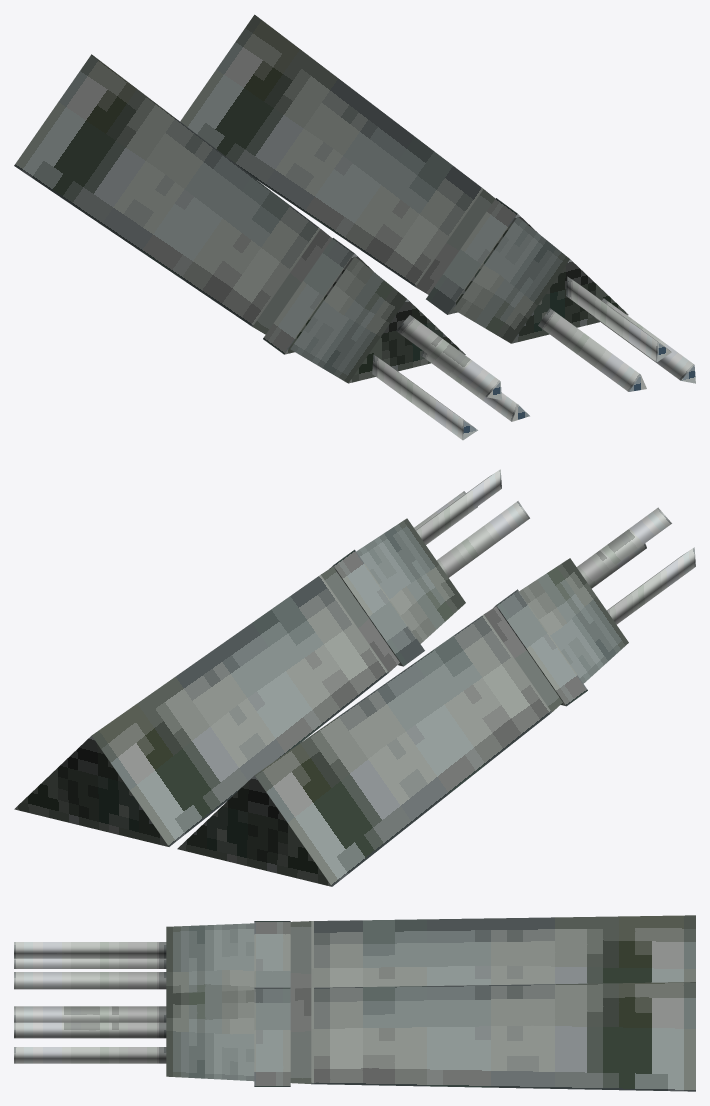
File: bwing_weapon3_s04_l2.fbx
The picture shows the model from 3 angles, top to bottom: view 1: azimuth 30°, elevation 25°; view 2: azimuth 150°, elevation 25°; view 3: azimuth 270°, elevation 25°; orthographic projection. The views are drawn at different scales.
Parts seen in each view (by area): view 1: mesh_node; view 2: mesh_node; view 3: mesh_node.
Boxes of the visible parts, x1,y1,x2,y2 form: mesh_node: [14, 14, 695, 440]; mesh_node: [14, 469, 695, 886]; mesh_node: [14, 915, 695, 1091].
Size of the model in its own units: 1.2 by 0.3328 by 2.64.
Materials: 1 (1 with a texture image).
